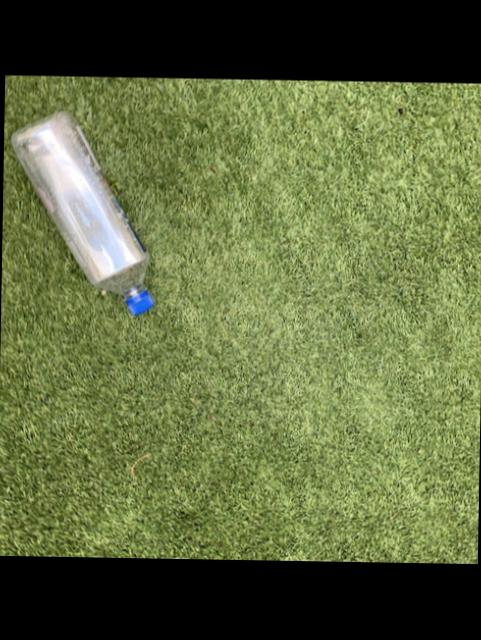plastic: (8, 114, 149, 316)
